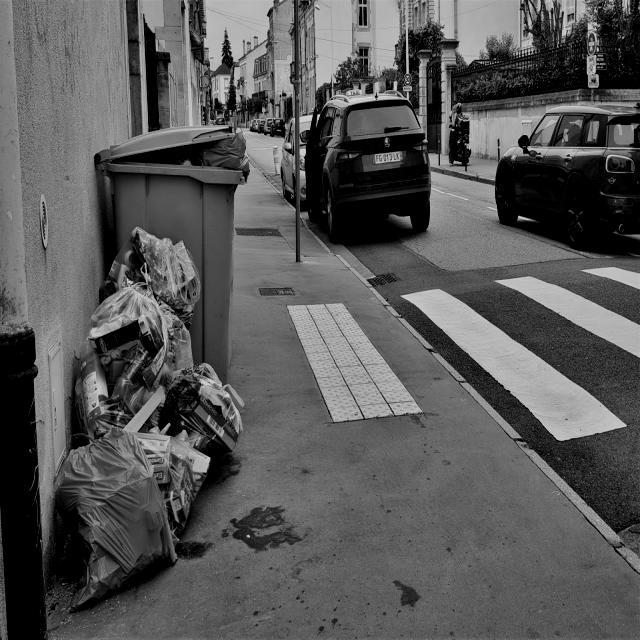high trash: (56, 228, 242, 608)
